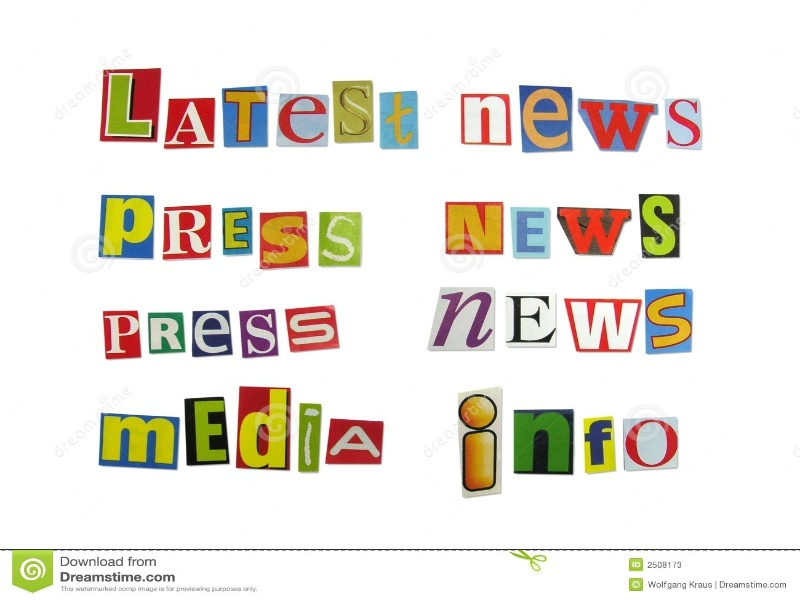letters: (88, 394, 180, 486), (101, 49, 171, 147), (236, 385, 294, 480), (506, 410, 574, 480), (578, 95, 658, 153), (426, 288, 497, 353), (158, 94, 221, 163), (103, 190, 155, 270), (441, 199, 507, 261), (185, 390, 228, 482), (563, 301, 642, 351), (271, 93, 330, 157), (462, 393, 498, 497), (163, 198, 216, 267), (642, 285, 696, 351), (321, 409, 380, 469), (286, 300, 347, 357), (521, 82, 568, 150), (560, 210, 628, 257), (235, 300, 279, 371), (190, 306, 240, 368), (220, 88, 269, 148), (333, 82, 378, 145), (464, 88, 514, 144), (637, 194, 680, 258), (294, 401, 324, 490), (262, 211, 305, 273), (503, 293, 556, 343), (379, 90, 419, 156), (504, 206, 552, 260), (319, 213, 363, 268), (628, 419, 675, 470), (667, 99, 707, 151), (148, 308, 186, 358), (99, 306, 133, 360), (587, 413, 611, 478), (219, 208, 247, 256)
